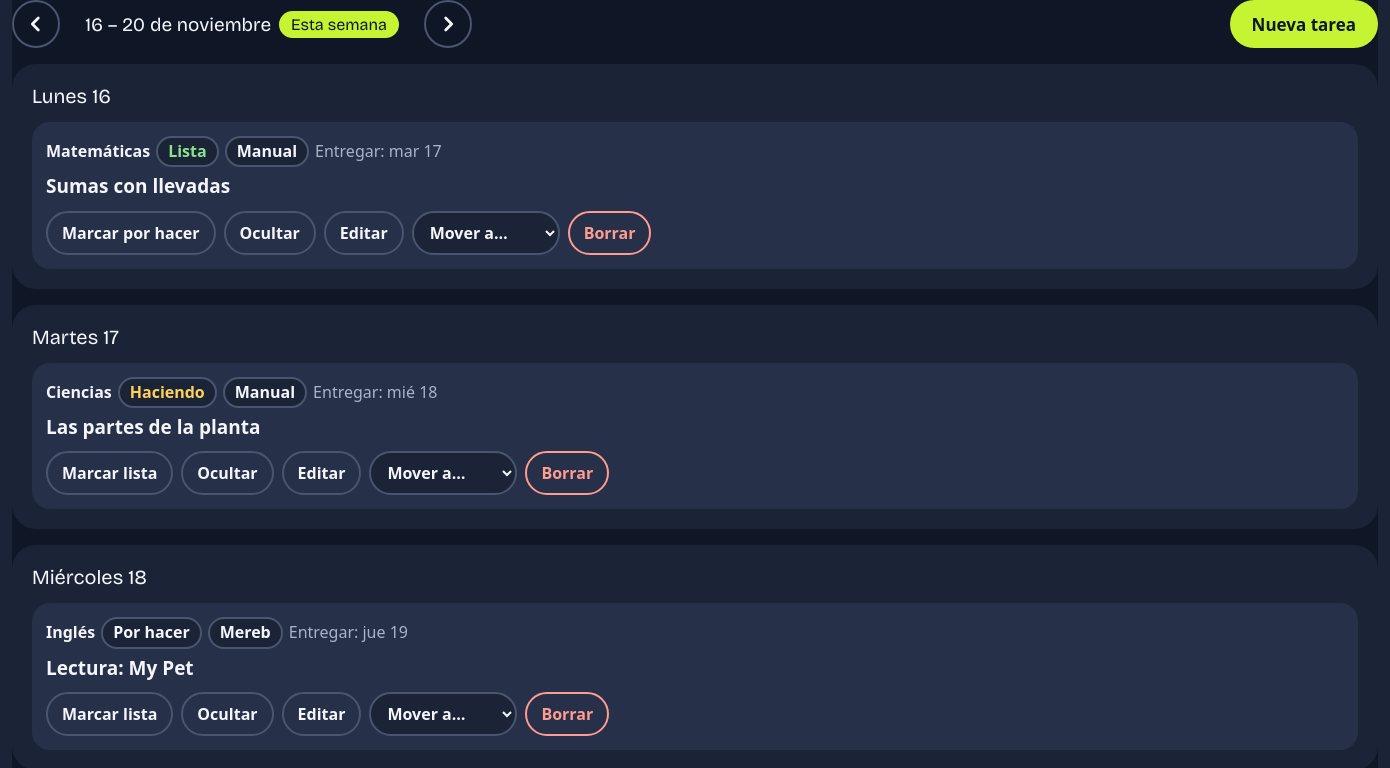
Test case: TasksTab positive › a task that came from Mereb is retired: the confirmation says it will not come back
Click the button with aria-label "Borrar: Lectura: My Pet" at (567, 714), box top-left (525, 692), bottom-right (609, 736)
(page scrolled)
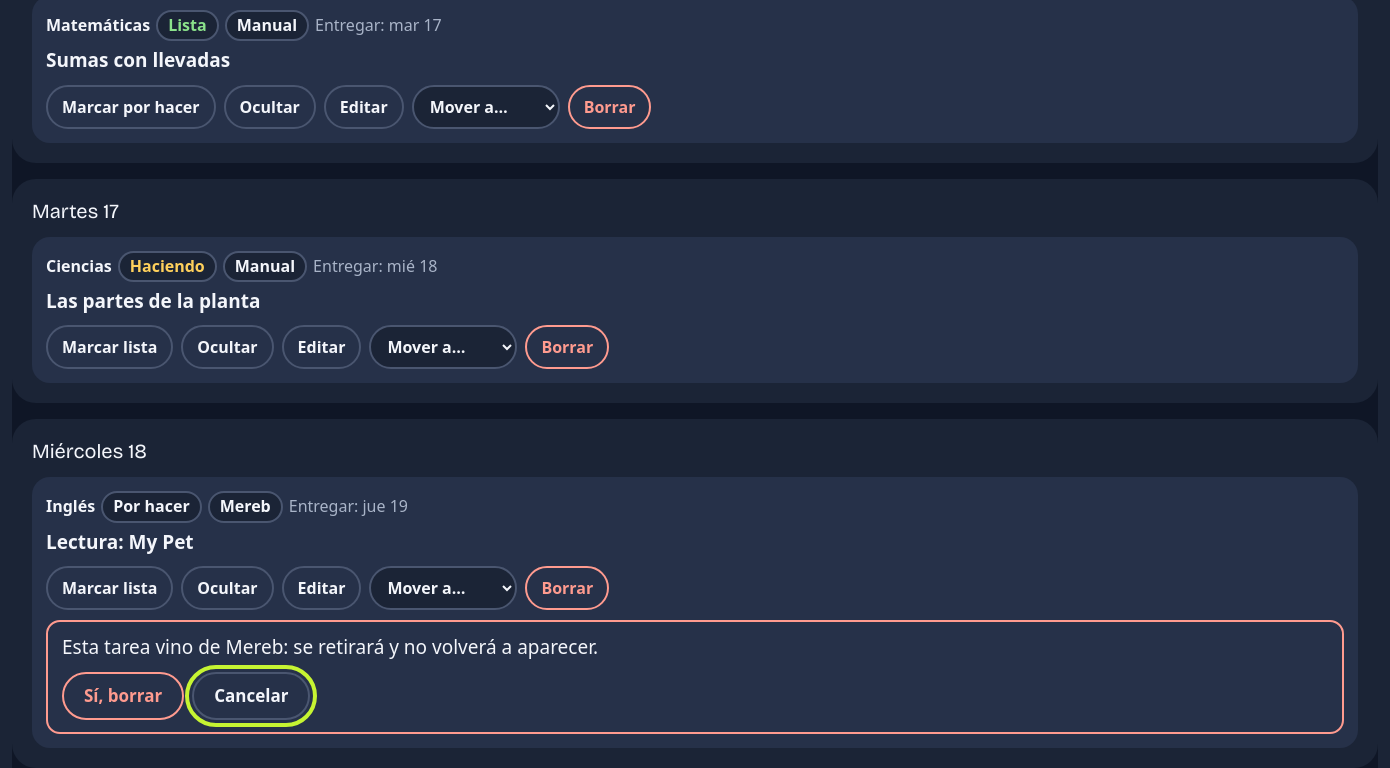
Expected: the text "se retirará y no volverá a aparecer" is shown, top-left (62, 634), bottom-right (598, 660)
